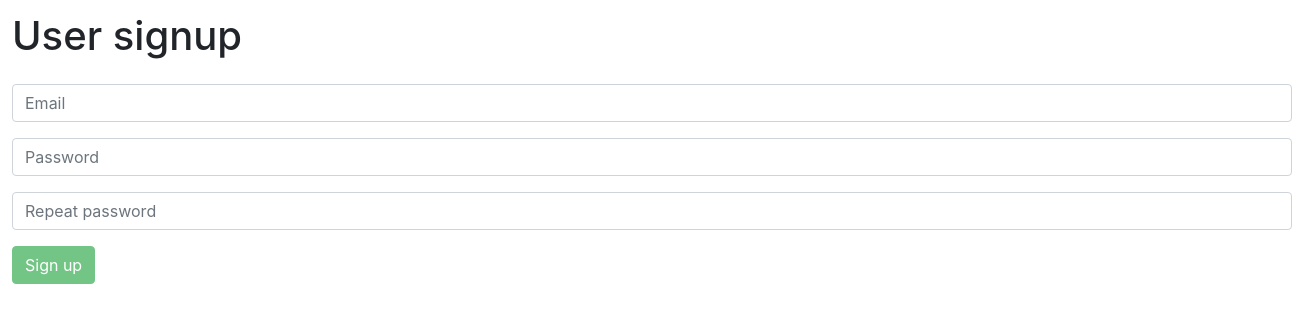
Scenario: Signup › should fail validation when password is empty
This screenshot has width=1304, height=328.
Type "test@test.com" into the field with placeholder "Email" at [652, 103], box [12,84,1292,122]
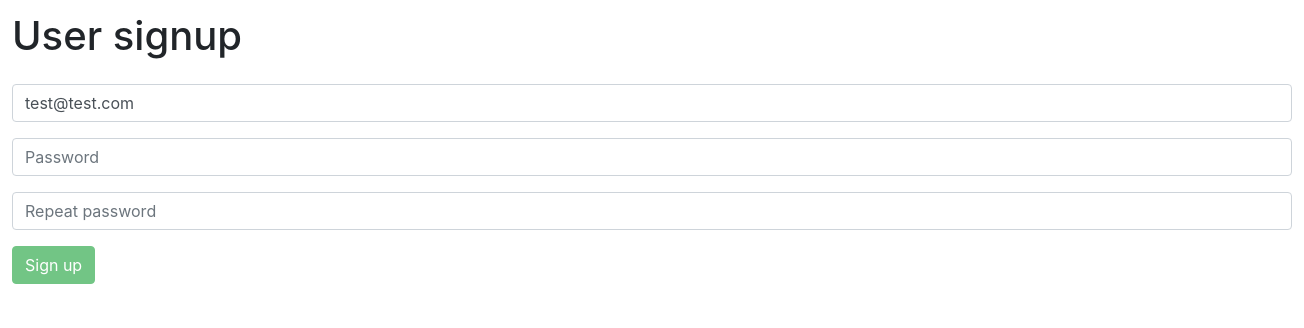
Clear the password field with placeholder "Password" at [652, 157], box [12,138,1292,176]
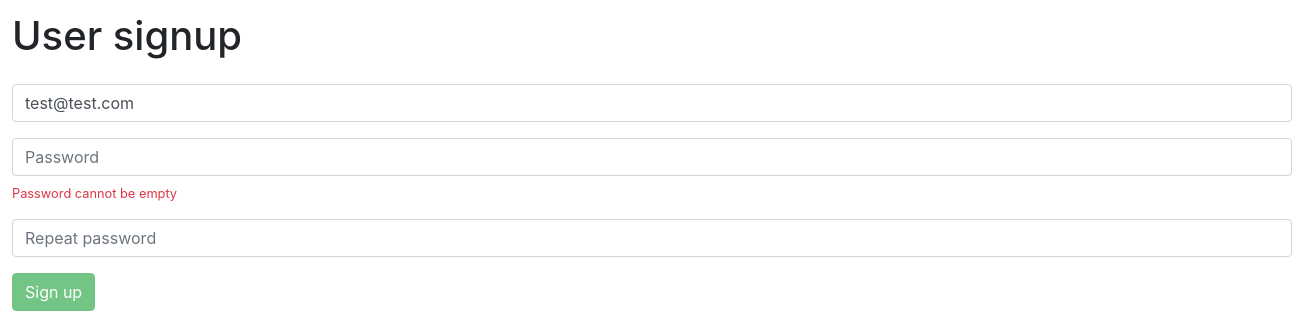
Expected: the button "Sign up" is disabled, [12,273,95,311]
Now the text "Password cannot be empty" is shown, box [12,186,177,201]
